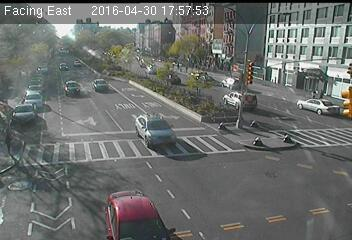neg: (42, 149, 79, 197), (217, 166, 249, 209), (313, 104, 343, 144), (22, 33, 51, 73), (161, 60, 190, 99), (277, 52, 305, 90), (109, 44, 135, 78), (215, 84, 240, 117), (71, 68, 96, 101), (128, 161, 151, 193), (240, 57, 260, 84), (277, 129, 296, 154), (134, 98, 152, 123), (250, 127, 267, 149)
pos: (3, 128, 23, 154)
